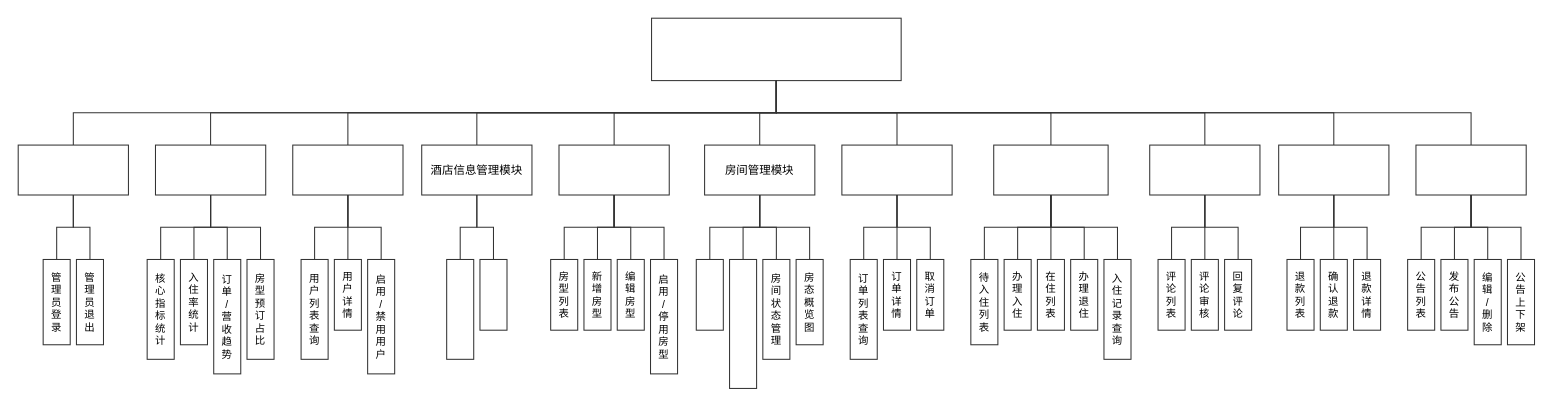
This 1553x407 diagram has some shape labels left out. Here are the shapes that lost their labels. From the top down, the centre of each, then its label:
At [776,49]: "酒店预约管理系统 后台模块".
At [72,169]: "管理员登录模块".
At [210,169]: "数据仪表盘模块".
At [347,169]: "用户管理模块".
At [613,169]: "房型管理模块".
At [896,169]: "订单管理模块".
At [1050,169]: "入住退住管理模块".
At [1204,169]: "评论管理模块".
At [1333,169]: "支付退款管理模块".
At [1470,169]: "公告管理模块".
At [460,308]: "酒 店 信 息 编 辑".
At [493,294]: "图 片 管 理".
At [709,294]: "房 间 列 表".
At [743,323]: "新 增 / 编 辑 / 删 除".
